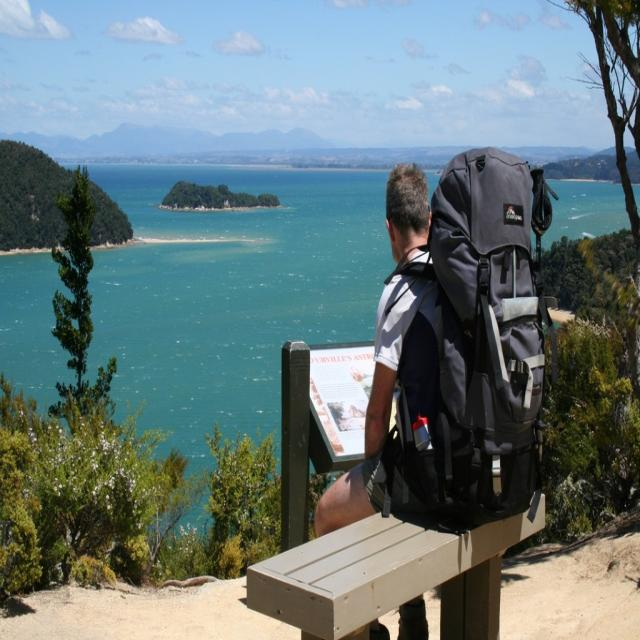backpack: (383, 148, 551, 514)
